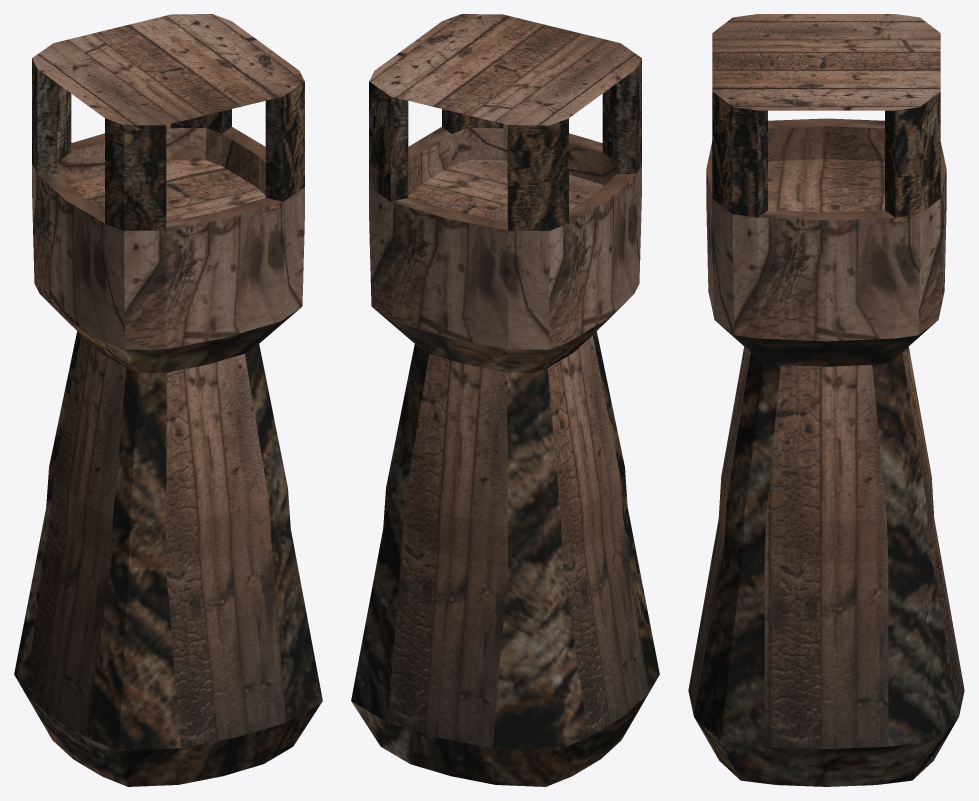
File: tower.fbx
3 renders of one model, left to right at view 1: azimuth 30°, elevation 25°; view 2: azimuth 150°, elevation 25°; view 3: azimuth 270°, elevation 25°, orthographic.
Parts seen in each view (by area): view 1: Cube; view 2: Cube; view 3: Cube.
Part boxes in pixels (x1=…): Cube: x1=14, y1=14, x2=322, y2=786; Cube: x1=351, y1=14, x2=659, y2=786; Cube: x1=688, y1=14, x2=964, y2=786.
Bounding box in the file's own units: 292 × 786 × 291.
